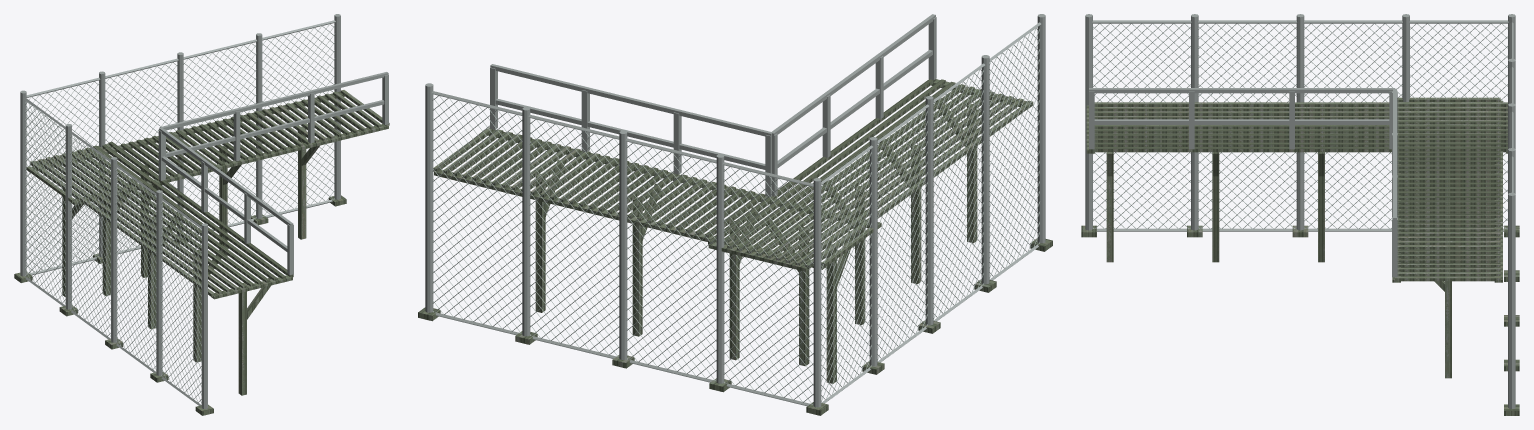
File: cyclone-fence-corner.gltf
3 views of the same model, side by side, from view 1: azimuth 30°, elevation 25°; view 2: azimuth 150°, elevation 25°; view 3: azimuth 270°, elevation 25° (orthographic). The views are drawn at different scales.
Parts seen in each view (by area): view 1: fence-L0-wire, walkway-L1-metal, fence-L0-iron, guards-L1-iron, structure-L0-metal, fence-L0-metal; view 2: fence-L0-wire, walkway-L1-metal, fence-L0-iron, structure-L0-metal, guards-L1-iron, fence-L0-metal; view 3: walkway-L1-metal, fence-L0-wire, fence-L0-iron, guards-L1-iron, structure-L0-metal, fence-L0-metal.
Part boxes in pixels (x1,y1,x2,y2): fence-L0-wire: (25, 24, 334, 403); walkway-L1-metal: (26, 90, 389, 299); fence-L0-iron: (20, 14, 340, 408); guards-L1-iron: (158, 72, 388, 274); structure-L0-metal: (62, 126, 319, 395); fence-L0-metal: (14, 195, 346, 415); fence-L0-wire: (432, 28, 1039, 404); walkway-L1-metal: (433, 79, 1033, 271); fence-L0-iron: (425, 14, 1045, 407); structure-L0-metal: (535, 98, 977, 383); guards-L1-iron: (490, 14, 936, 196); fence-L0-metal: (418, 238, 1052, 415); walkway-L1-metal: (1086, 97, 1507, 282); fence-L0-wire: (1092, 23, 1507, 228); fence-L0-iron: (1085, 14, 1515, 409); guards-L1-iron: (1089, 88, 1397, 277); structure-L0-metal: (1106, 152, 1451, 378); fence-L0-metal: (1081, 225, 1519, 415).
Bounding box in the file's own units: 6.22 × 3.42 × 6.22.
Materials: 3 (1 with a texture image).
